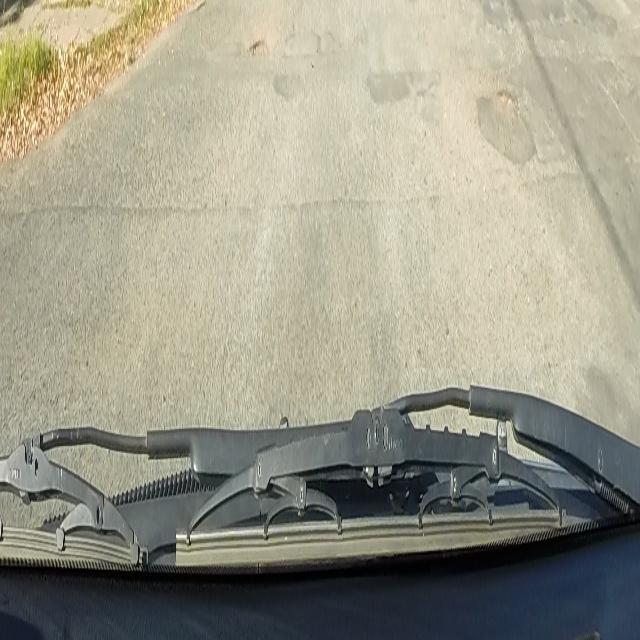pothole: (250, 34, 270, 64), (496, 85, 516, 112)
